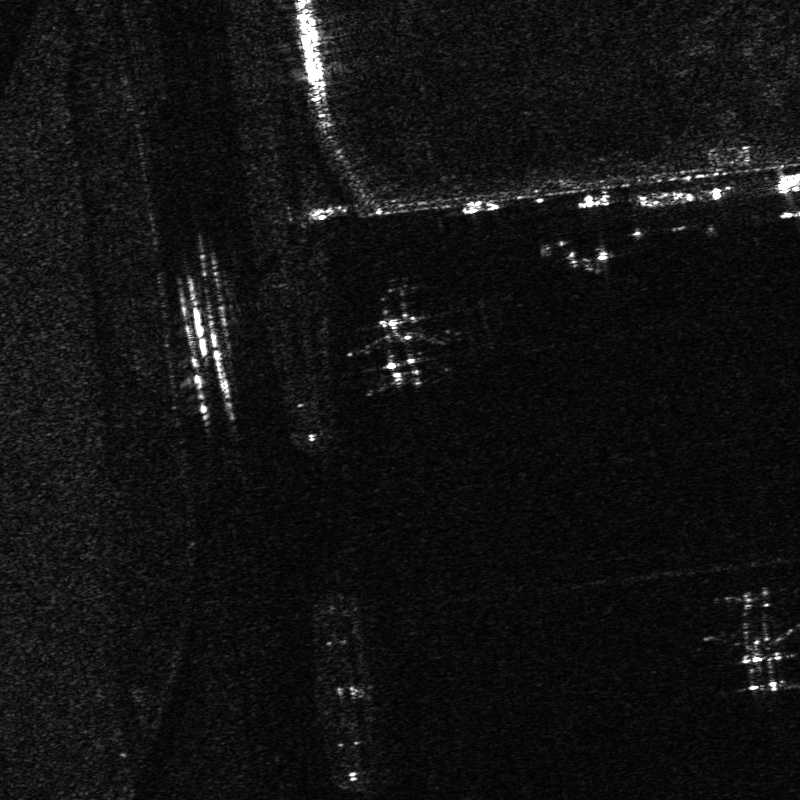A220: (345, 311, 445, 390)
A330: (705, 583, 799, 669)
